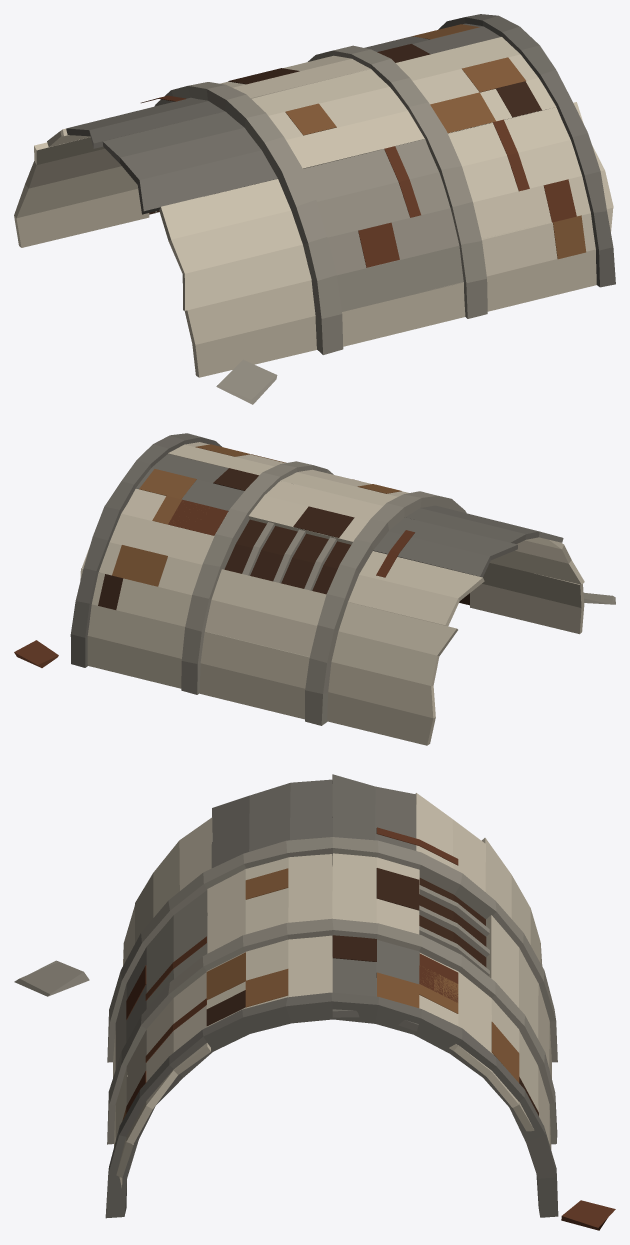
Rendered from hull_shell.glb.
The picture shows the model from 3 angles, top to bottom: view 1: azimuth 30°, elevation 25°; view 2: azimuth 150°, elevation 25°; view 3: azimuth 270°, elevation 25°; orthographic projection. The views are drawn at different scales.
Visible parts, largest first — view 1: hull_shell; view 2: hull_shell; view 3: hull_shell.
Part boxes in pixels (box(x1,y1,x2,y2)): hull_shell: box(14, 14, 615, 404); hull_shell: box(14, 433, 615, 745); hull_shell: box(14, 774, 615, 1230).
Bounding box in the file's own units: 52.57 × 19.73 × 49.4.
